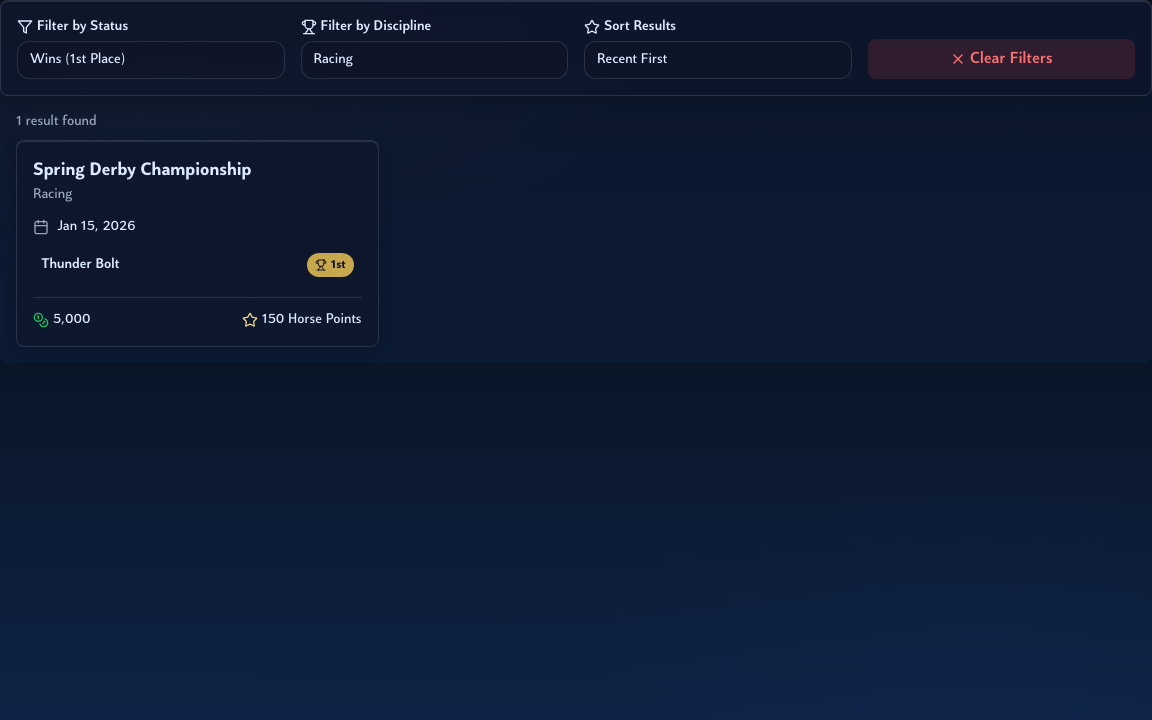
Test: CompetitionResultsList › Filter Functionality › clear filters button resets all filters
The image size is (1152, 720).
Click the button with test id "clear-filters".
click(1001, 59)  # box [868, 39, 1135, 79]
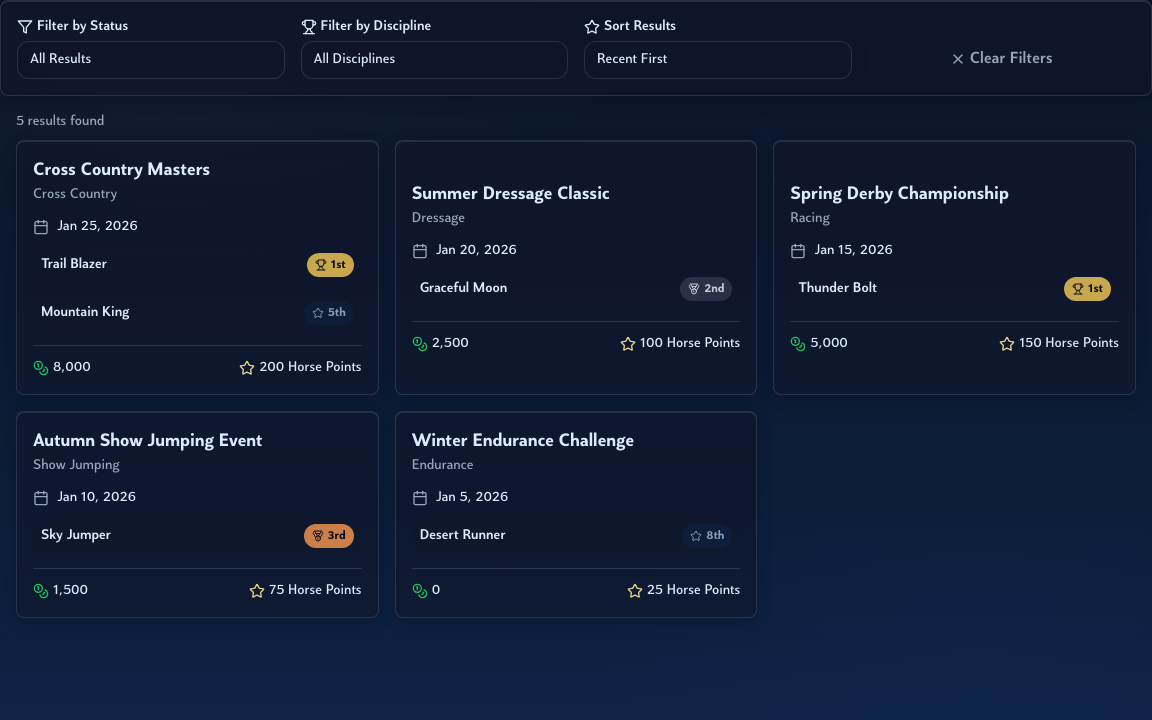
Result: the number of buttons with test id "result-card" is 5 at [16, 140, 379, 395]; [395, 140, 757, 395]; [773, 140, 1136, 395]; [16, 411, 379, 618]; [395, 411, 757, 618]
